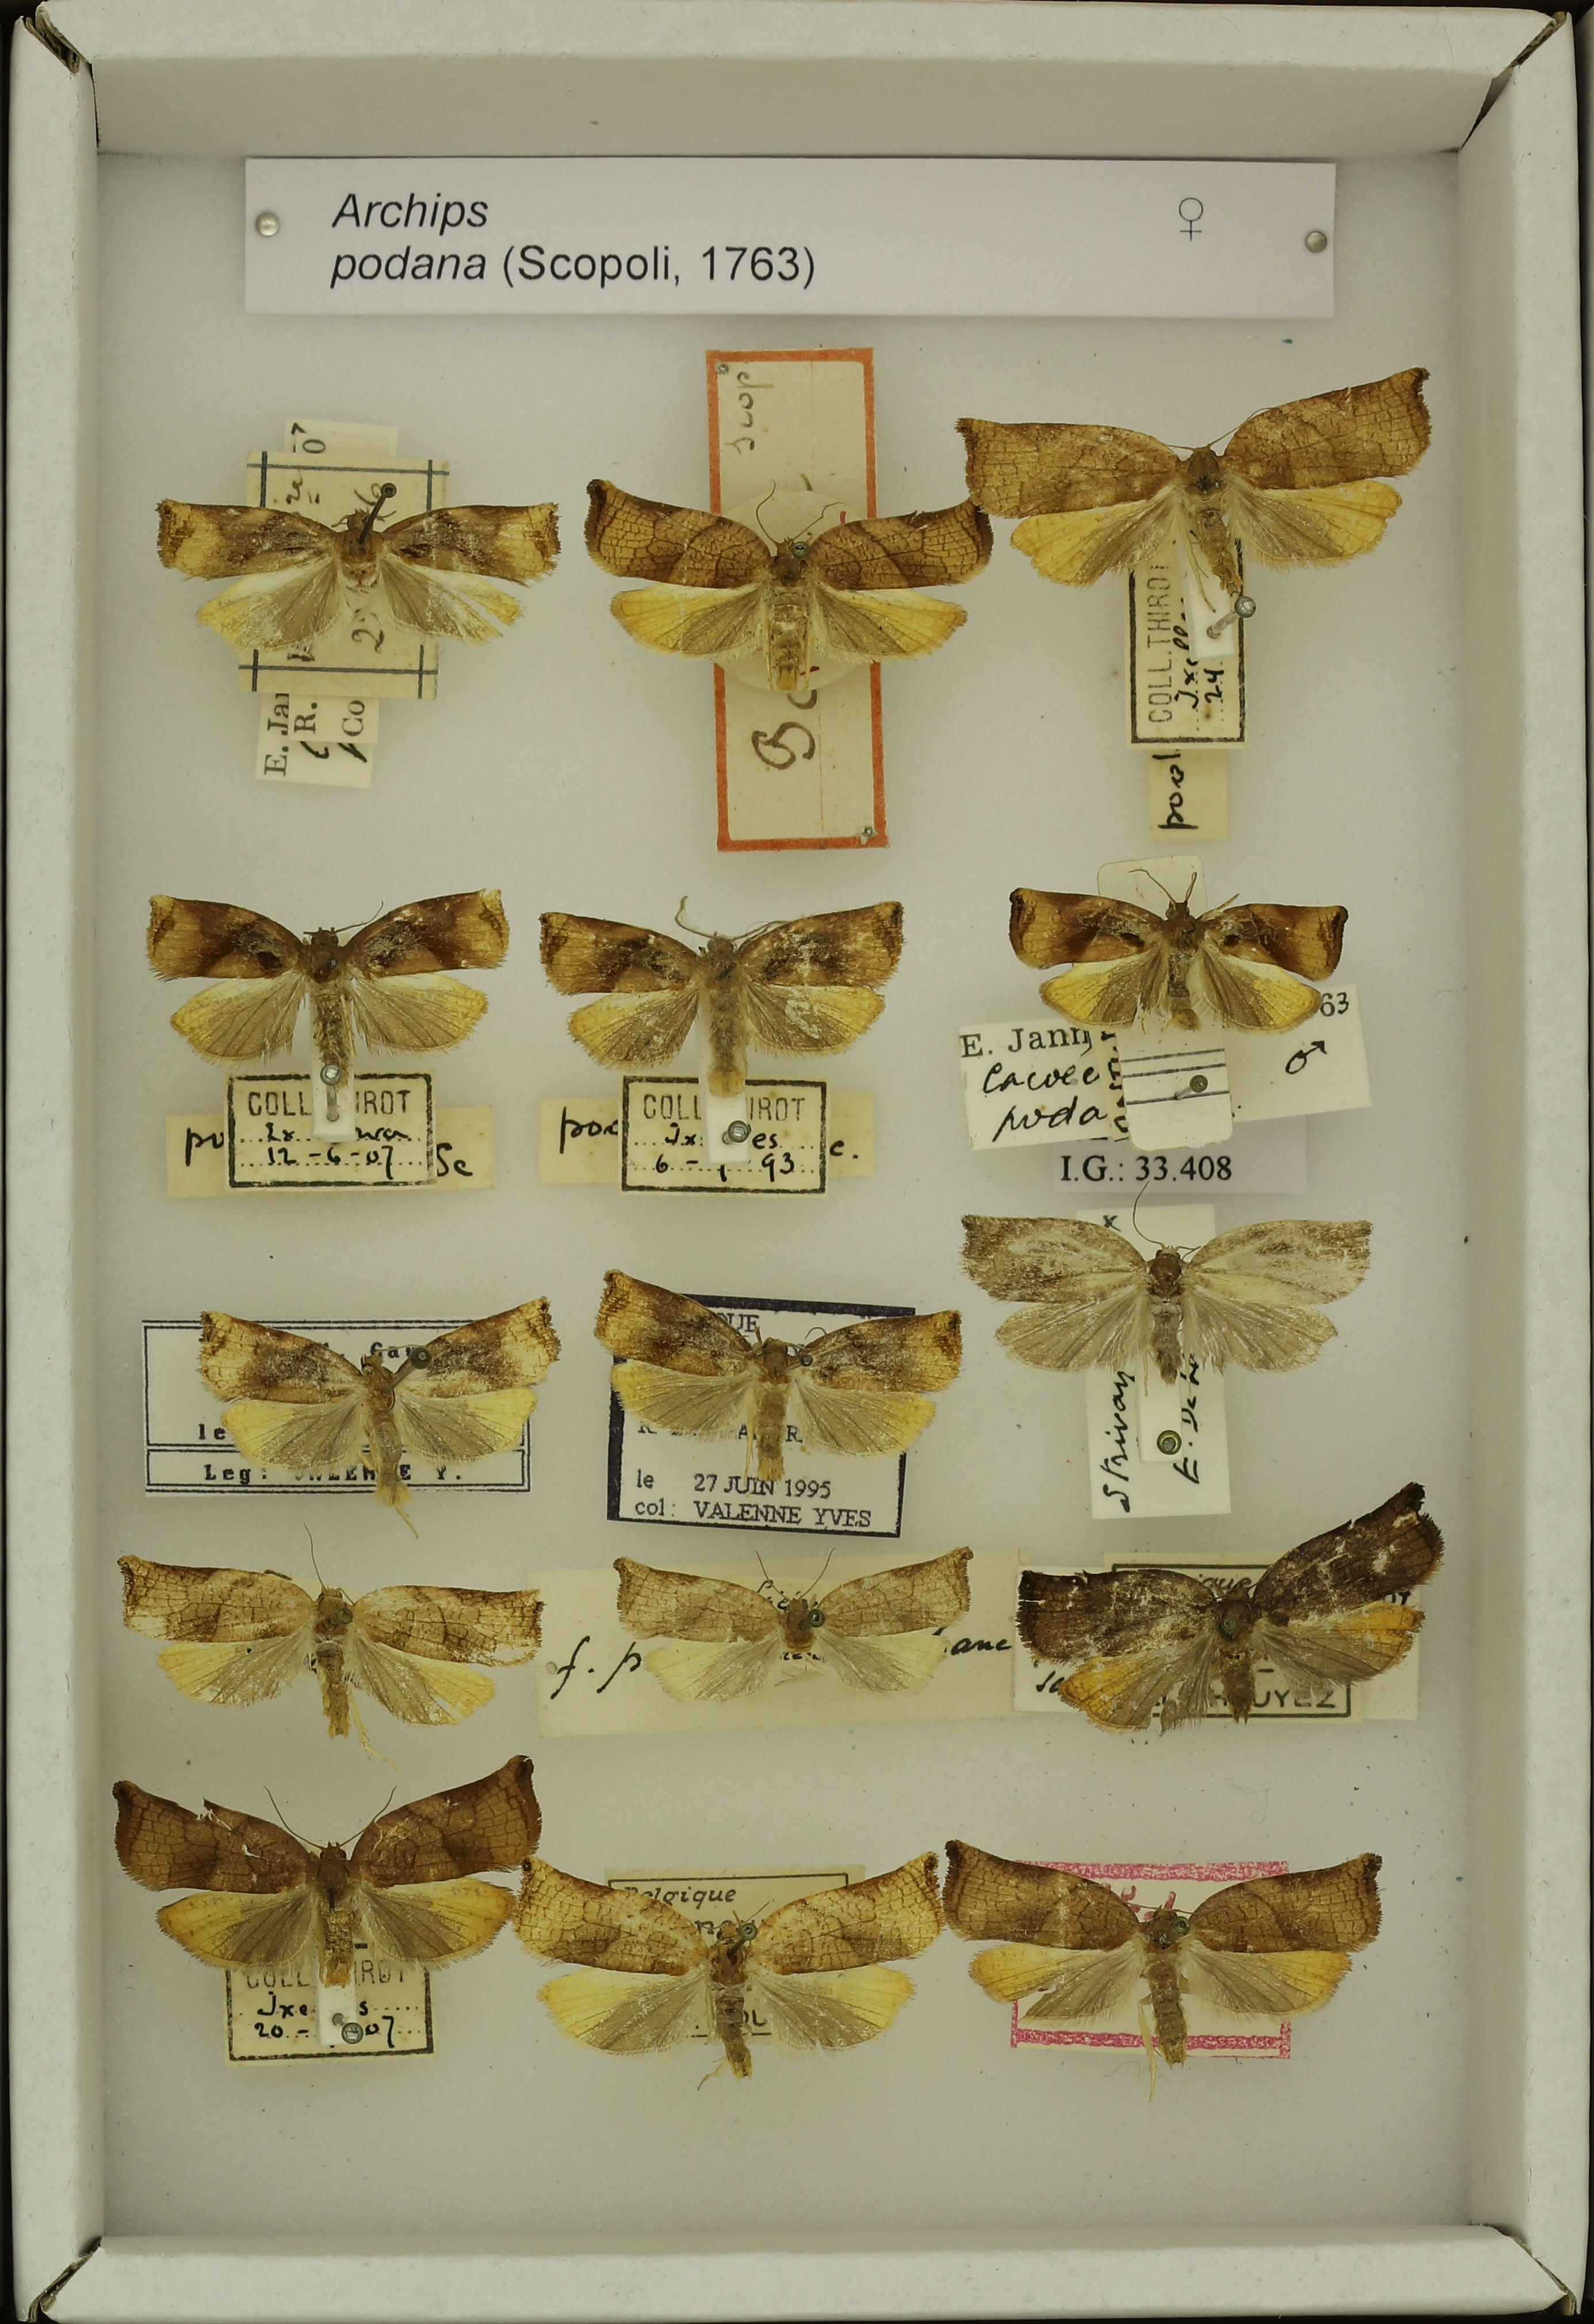insect: (1006, 1469, 1447, 1736), (954, 362, 1437, 588), (938, 1831, 1391, 2070), (110, 1748, 548, 1974), (516, 1849, 944, 2077), (581, 470, 995, 689), (590, 1261, 972, 1492), (953, 1203, 1377, 1402), (106, 1547, 551, 1734), (193, 1293, 562, 1499), (141, 496, 562, 671), (530, 899, 905, 1095), (145, 876, 511, 1074), (1006, 865, 1350, 1054), (604, 1540, 981, 1708)
